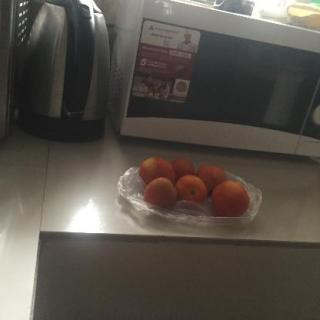Tomat: (133, 152, 252, 228)
